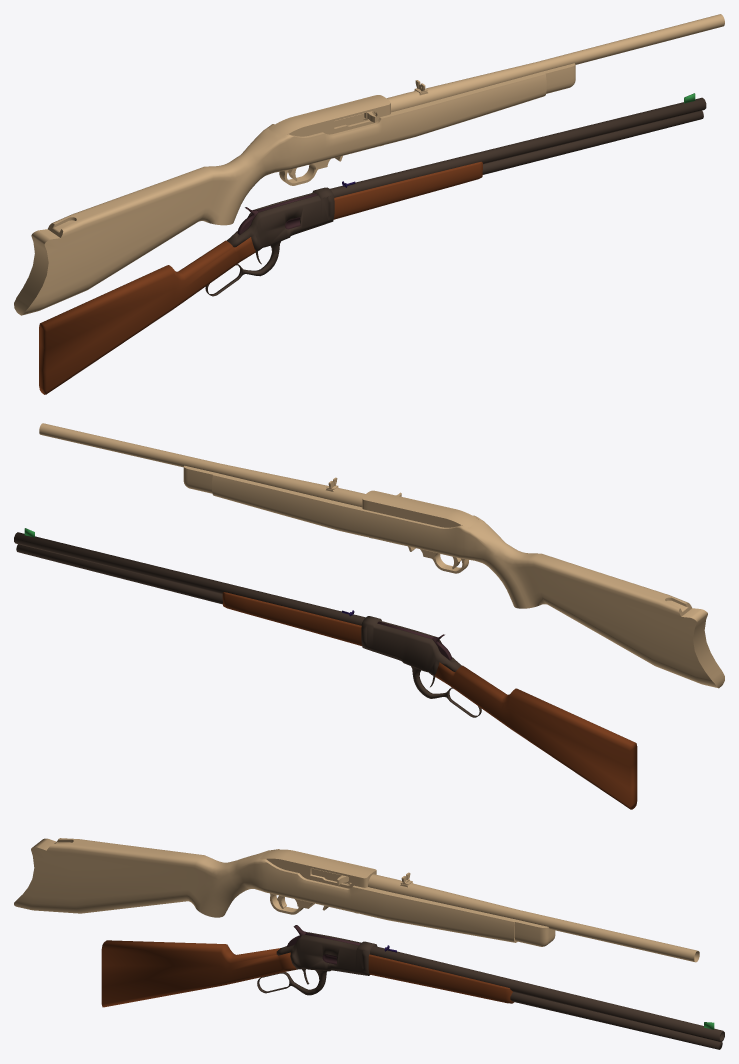
File: guns.fbx
3 renders of one model, top to bottom at view 1: azimuth 30°, elevation 25°; view 2: azimuth 150°, elevation 25°; view 3: azimuth 330°, elevation 25°, orthographic. The views are drawn at different scales.
Parts seen in each view (by area): view 1: D_Carabina, D_Winchester; view 2: D_Carabina, D_Winchester; view 3: D_Carabina, D_Winchester.
Part boxes in pixels (x1,y1,x2,y2): D_Carabina: (14,14,724,315); D_Winchester: (39,93,706,394); D_Carabina: (39,423,724,688); D_Winchester: (14,528,637,809); D_Carabina: (14,838,699,962); D_Winchester: (101,925,724,1049).
Bounding box in the file's own units: 5.31 × 1.73 × 0.6113.
